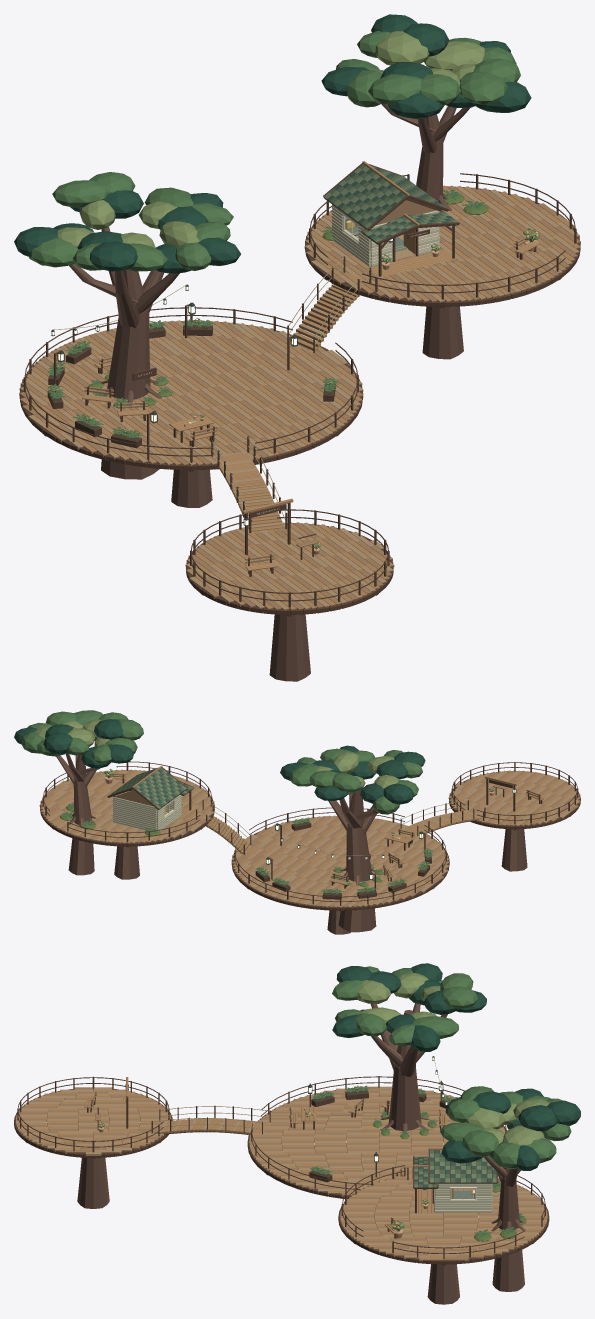
File: environment.glb
3 renders of one model, top to bottom at view 1: azimuth 30°, elevation 25°; view 2: azimuth 150°, elevation 25°; view 3: azimuth 270°, elevation 25°, orthographic. The views are drawn at different scales.
Visible parts, largest first — view 1: Starter_Architecture, Foliage, Starter_Architecture_Roof; view 2: Starter_Architecture, Foliage, Starter_Architecture_Roof; view 3: Starter_Architecture, Foliage, Starter_Architecture_Roof.
Part boxes in pixels (x1=…): Starter_Architecture: x1=19, y1=173, x2=580, y2=681; Foliage: x1=14, y1=14, x2=531, y2=479; Starter_Architecture_Roof: x1=51, y1=161, x2=459, y2=520; Starter_Architecture: x1=39, y1=761, x2=580, y2=934; Foliage: x1=14, y1=710, x2=433, y2=932; Starter_Architecture_Roof: x1=107, y1=766, x2=515, y2=874; Starter_Architecture: x1=14, y1=1056, x2=549, y2=1304; Foliage: x1=310, y1=963, x2=580, y2=1291; Starter_Architecture_Roof: x1=125, y1=1056, x2=498, y2=1188.
Bounding box in the file's own units: 40.44 × 21.55 × 43.69.
